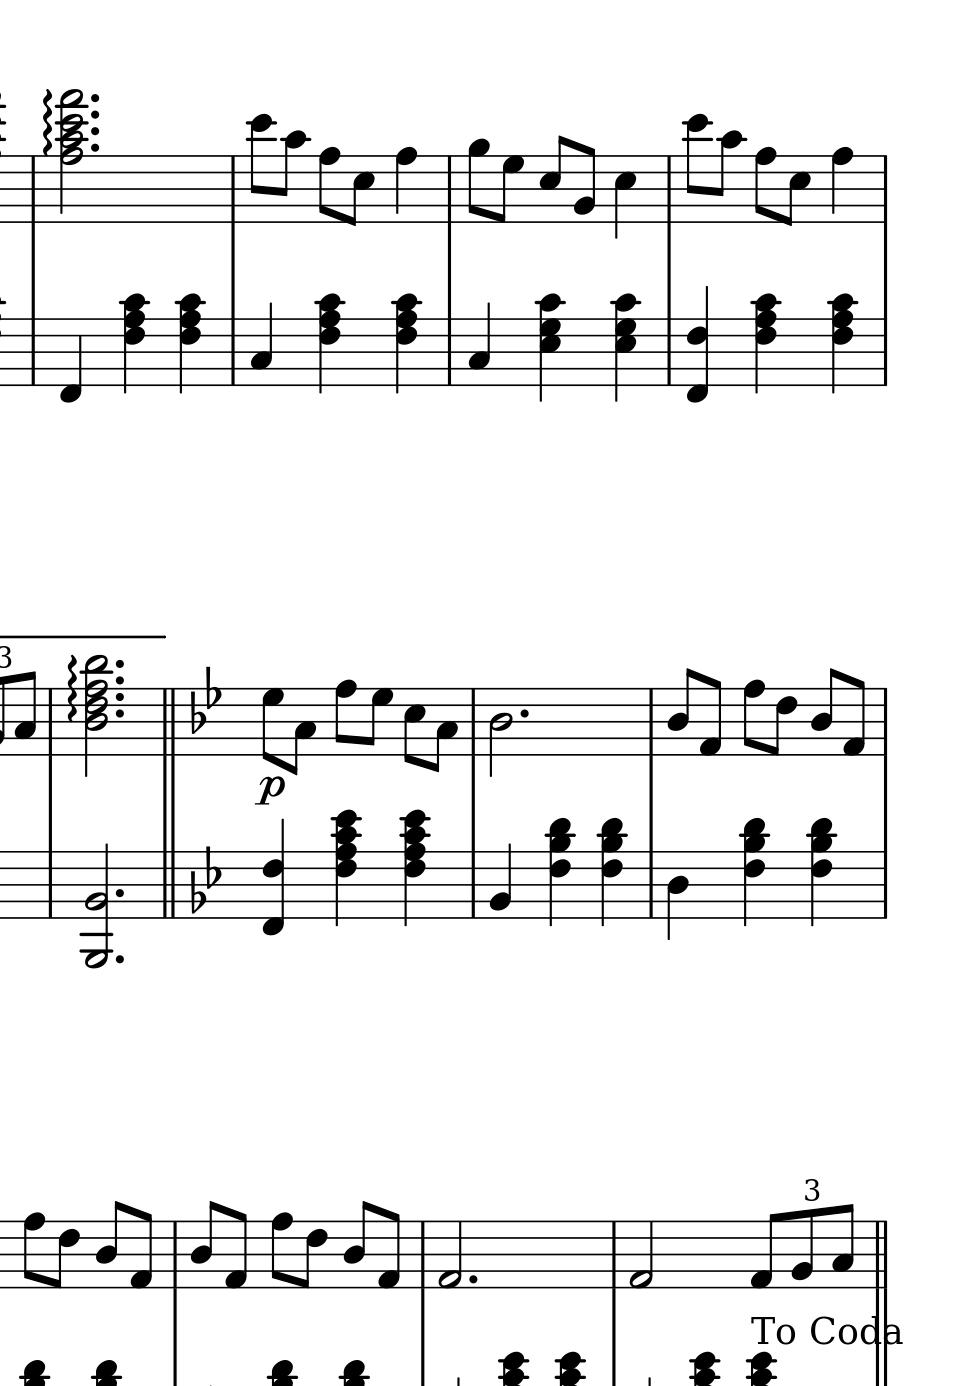2_-5_2: (81, 843, 115, 969)
2_1: (627, 1218, 657, 1291)
2_2: (436, 1218, 463, 1291)
2_4: (487, 687, 514, 778)
2_4th: (56, 86, 87, 226), (81, 652, 108, 777)
3: (803, 1177, 820, 1203)
4_-1: (56, 316, 83, 405)
4_-1_6: (260, 819, 288, 936), (684, 285, 712, 403)
4_2: (488, 842, 514, 920)
4_3: (467, 301, 491, 386), (249, 300, 273, 386)
4_4: (665, 850, 689, 941)
4_4th: (330, 806, 361, 929), (398, 806, 428, 929)
4_5: (611, 154, 636, 242)
4_8: (393, 146, 419, 224), (828, 146, 853, 224)
4_th: (738, 813, 771, 929), (800, 815, 833, 928), (533, 290, 564, 404), (610, 290, 637, 404), (826, 291, 856, 394), (119, 292, 148, 394), (750, 290, 778, 394), (174, 291, 203, 396), (315, 290, 343, 396), (389, 290, 417, 396)
8_1: (747, 1211, 780, 1292), (223, 1208, 249, 1291), (698, 676, 723, 758), (377, 1208, 402, 1291), (841, 676, 865, 758), (128, 1208, 153, 1291)
8_10: (277, 129, 307, 224), (714, 130, 743, 224)
8_12: (683, 112, 711, 224), (248, 112, 275, 223)
8_2: (789, 1208, 815, 1291), (572, 144, 597, 224)
8_3: (428, 686, 458, 774), (288, 686, 317, 776), (12, 669, 36, 758), (829, 1201, 854, 1291)
8_4: (342, 1199, 374, 1289), (188, 1198, 220, 1289), (665, 666, 696, 757), (94, 1199, 125, 1289), (809, 666, 839, 758)
8_5: (537, 134, 568, 224), (346, 154, 377, 228), (782, 154, 811, 227), (402, 686, 425, 767)
8_6: (51, 1220, 80, 1292), (298, 1220, 327, 1291), (769, 687, 797, 758)
8_7: (260, 686, 285, 768), (364, 687, 393, 756), (494, 154, 523, 224)
8_8: (20, 1211, 46, 1292), (268, 1211, 294, 1292), (741, 678, 766, 759), (317, 146, 342, 225), (753, 146, 777, 225), (333, 679, 357, 757)
8_9: (465, 138, 491, 225)
Arpeggio: (65, 649, 78, 721), (41, 87, 52, 156)
B_F: (188, 846, 223, 918), (188, 665, 222, 738)
Double_barline: (157, 688, 180, 756), (158, 852, 180, 918)
Single_barline: (871, 1220, 890, 1288), (465, 850, 482, 918), (876, 852, 893, 919), (465, 689, 482, 756), (642, 689, 659, 755), (42, 850, 58, 919), (877, 155, 893, 223), (24, 318, 40, 386), (643, 850, 659, 918), (167, 1221, 182, 1288), (661, 318, 677, 385), (606, 1222, 622, 1288), (225, 319, 241, 385), (441, 319, 457, 385), (877, 687, 892, 756), (43, 688, 58, 757), (415, 1221, 430, 1289), (225, 155, 240, 223), (442, 156, 457, 223), (661, 156, 676, 223), (877, 319, 892, 386), (25, 156, 40, 222)
dot: (112, 885, 127, 901), (112, 657, 127, 672), (517, 706, 531, 721), (112, 953, 127, 967), (465, 1271, 479, 1285), (88, 124, 102, 137), (112, 706, 125, 720), (89, 92, 102, 105), (89, 108, 102, 121), (112, 676, 127, 686), (88, 141, 101, 153)
p: (253, 774, 285, 807)
